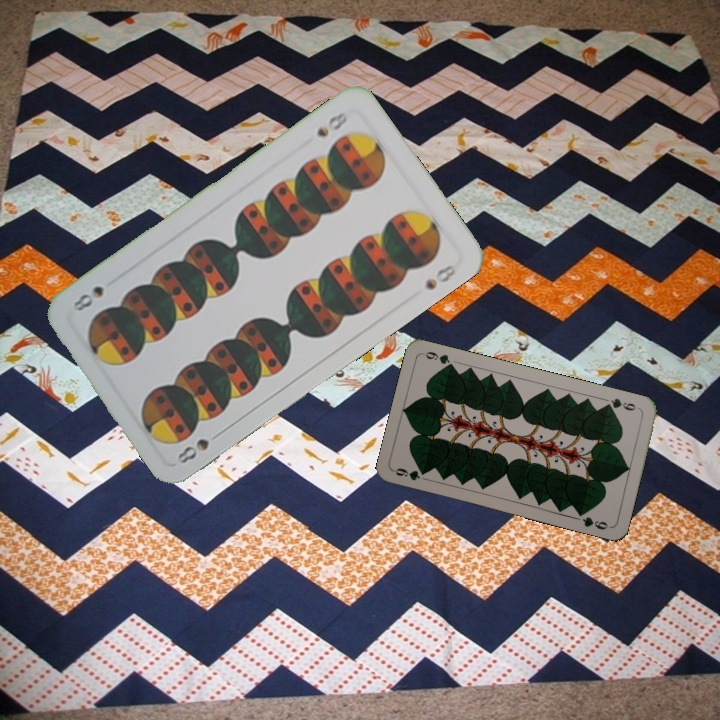G9: (390, 464, 429, 483), (601, 394, 638, 413)
S8: (173, 434, 212, 467), (312, 107, 350, 140)
